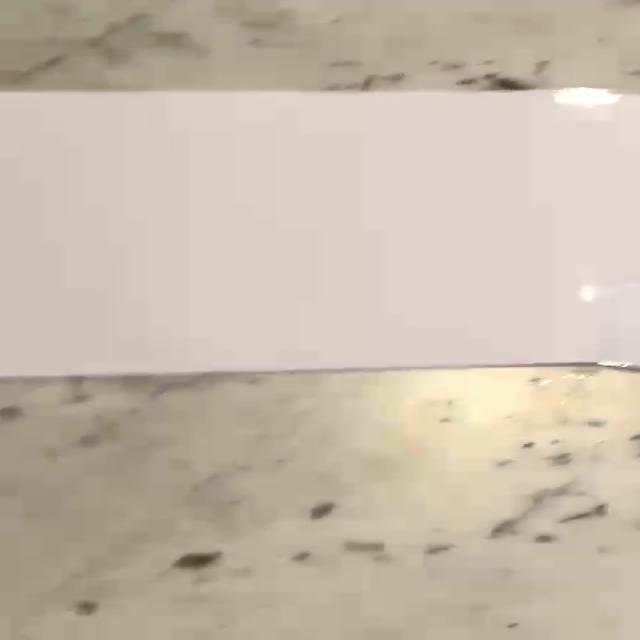road: (2, 90, 640, 376)
